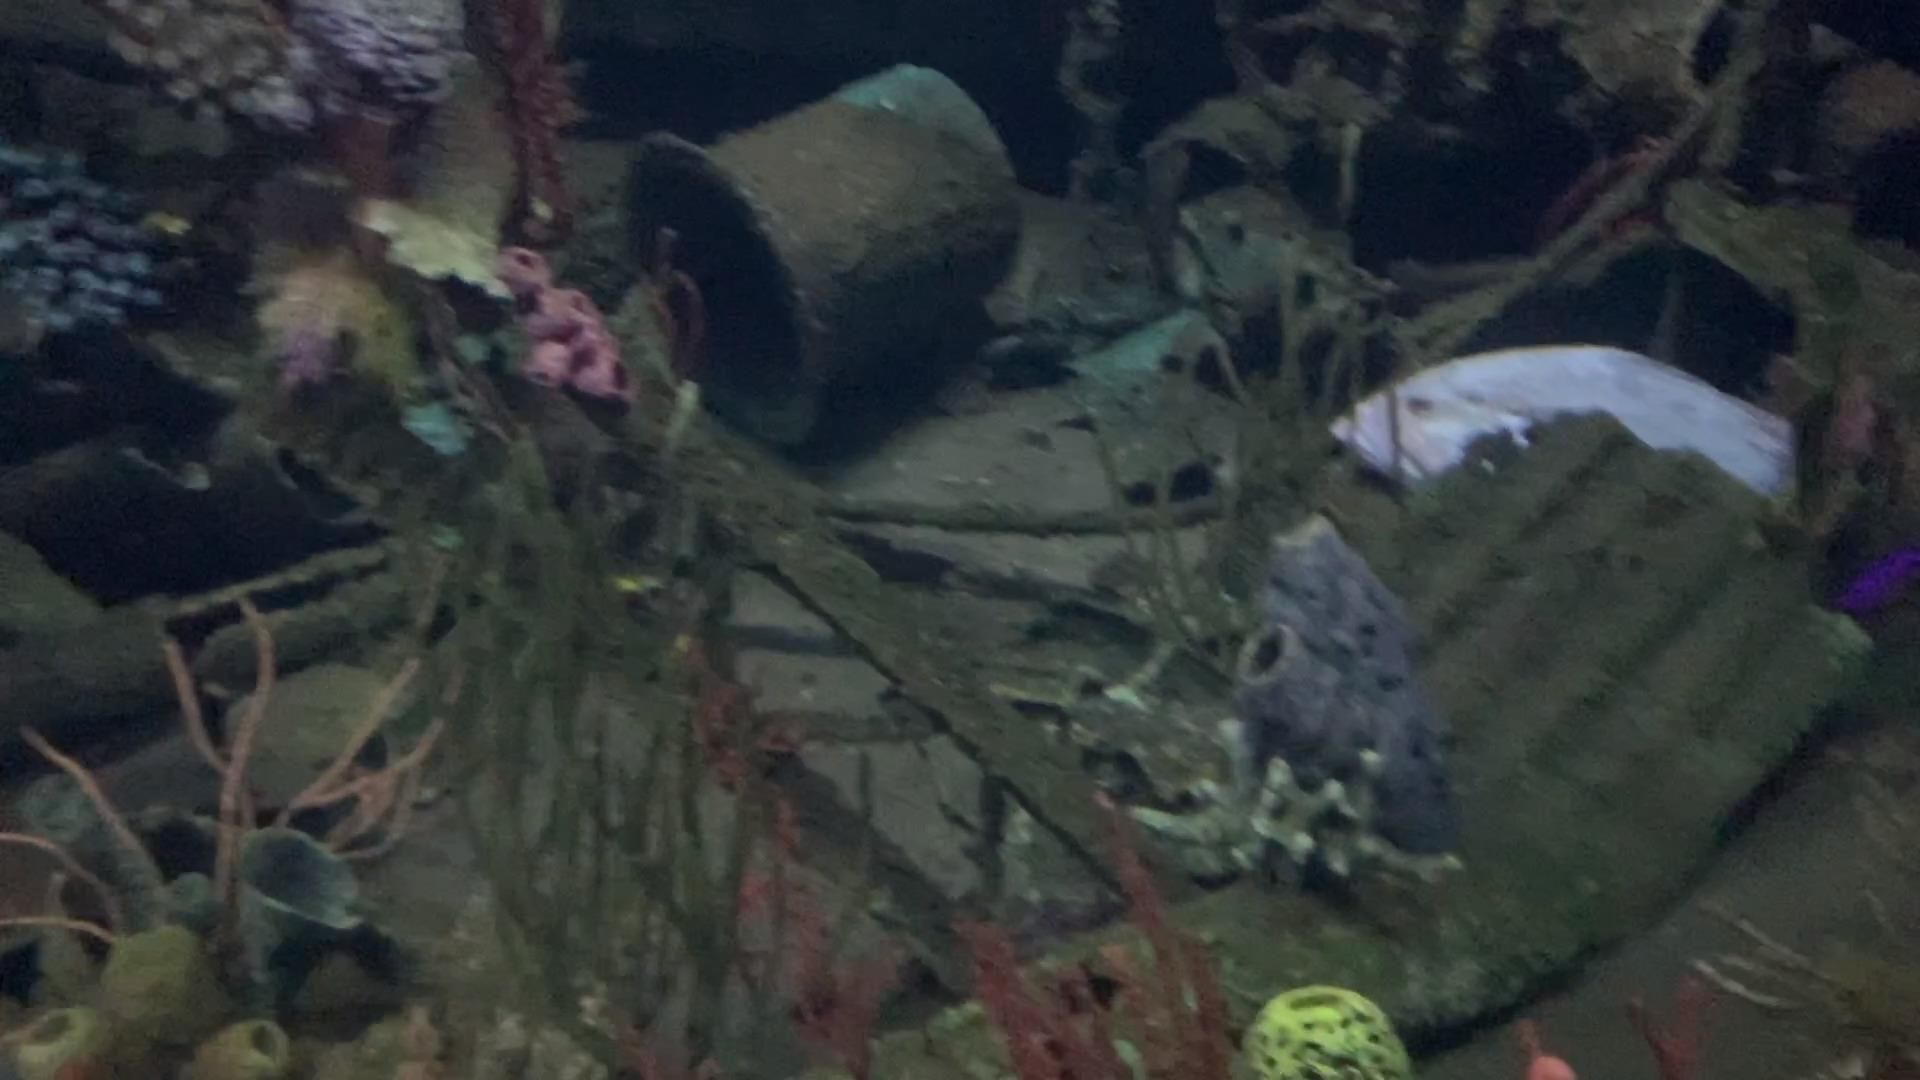fish: (1327, 345, 1804, 524)
